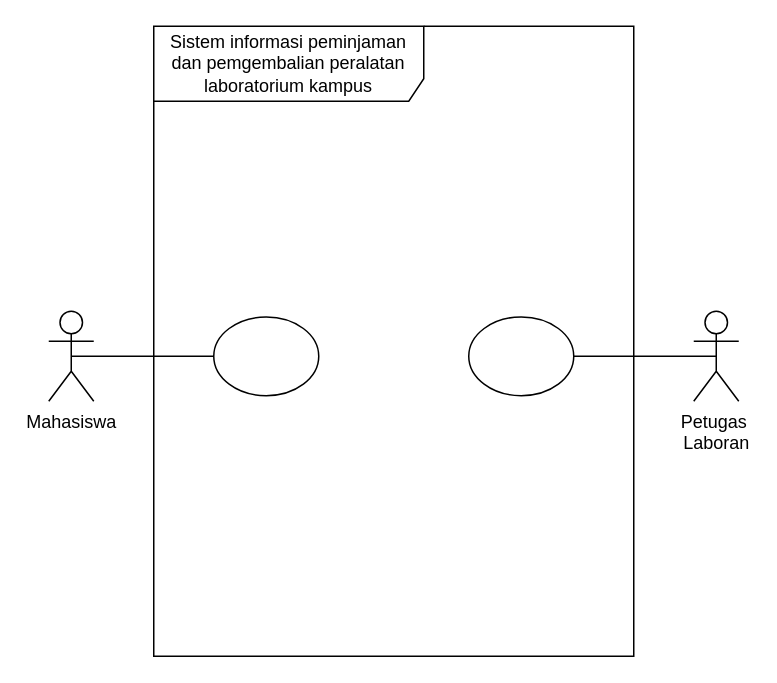
This 777x683 diagram has some shape labels left out. The centre of each missing label's shape, as x and y in pixels:
"Kelola data peralatan" goes at point 520,355.
"Lihat ketersediaan peralatan" goes at point 265,355.
